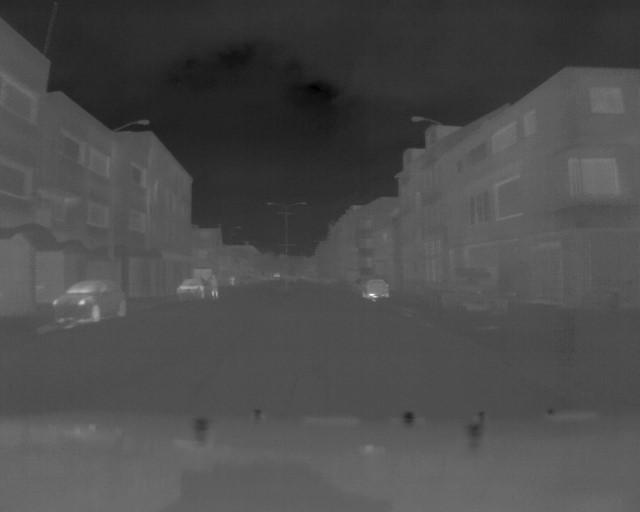car: (51, 280, 131, 325), (360, 275, 393, 301), (176, 277, 206, 300)
person: (208, 272, 222, 301)
